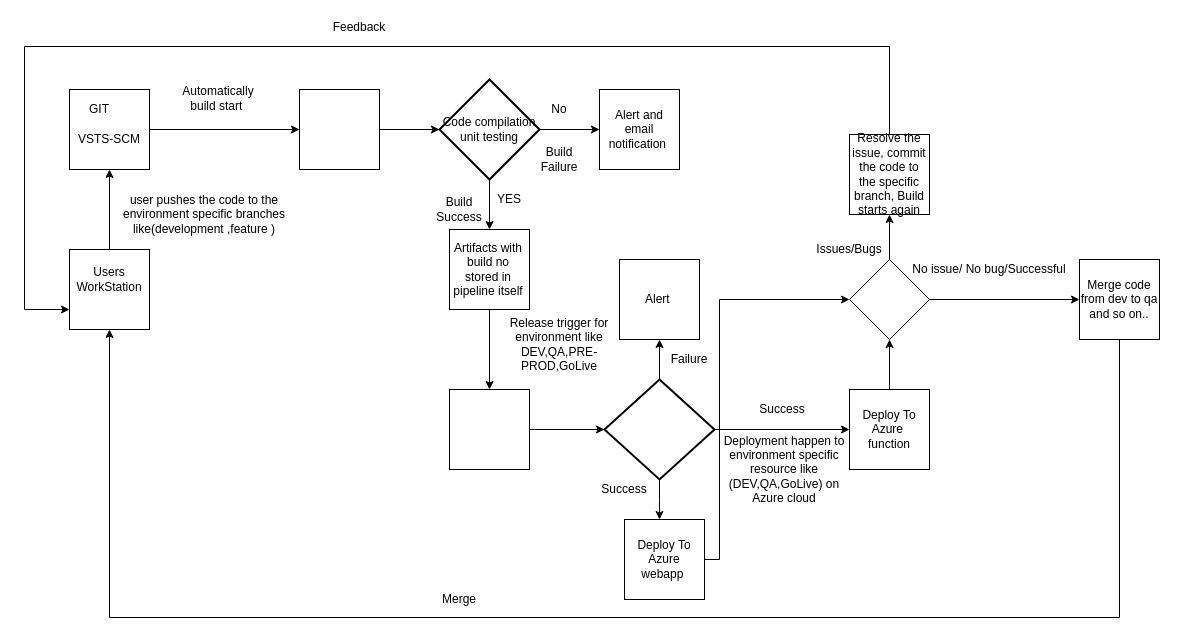
This 1177x643 diagram has some shape labels left out. Here are the shapes that lost their labels. From the top down, the centre of each, then its label:
point (339, 129): Build trigger
point (889, 299): Manual Testing
point (489, 429): Release
point (659, 429): Deployment
